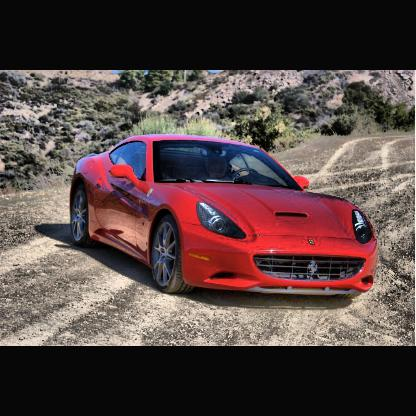Ferrari California Convertible 2012: (69, 135, 377, 300)
